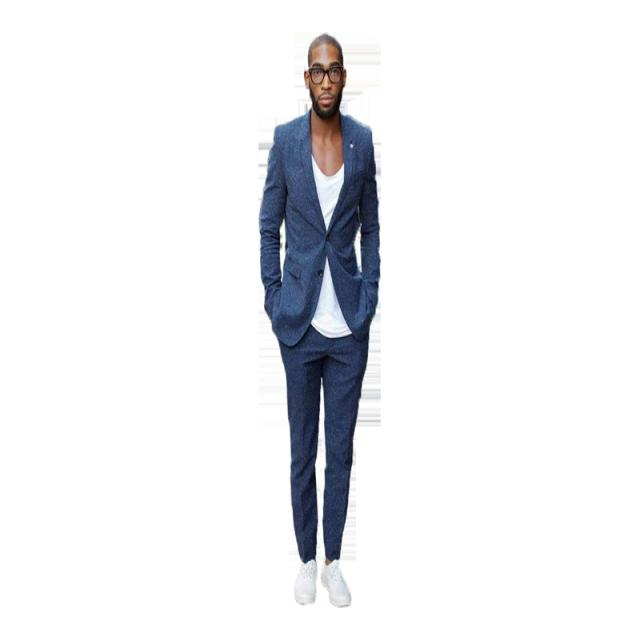jovem: (255, 31, 394, 608)
